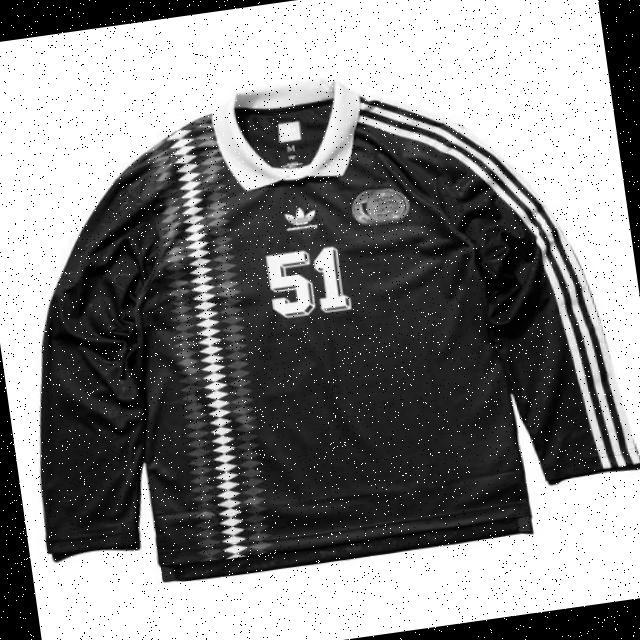Adidas: (278, 202, 325, 234)
